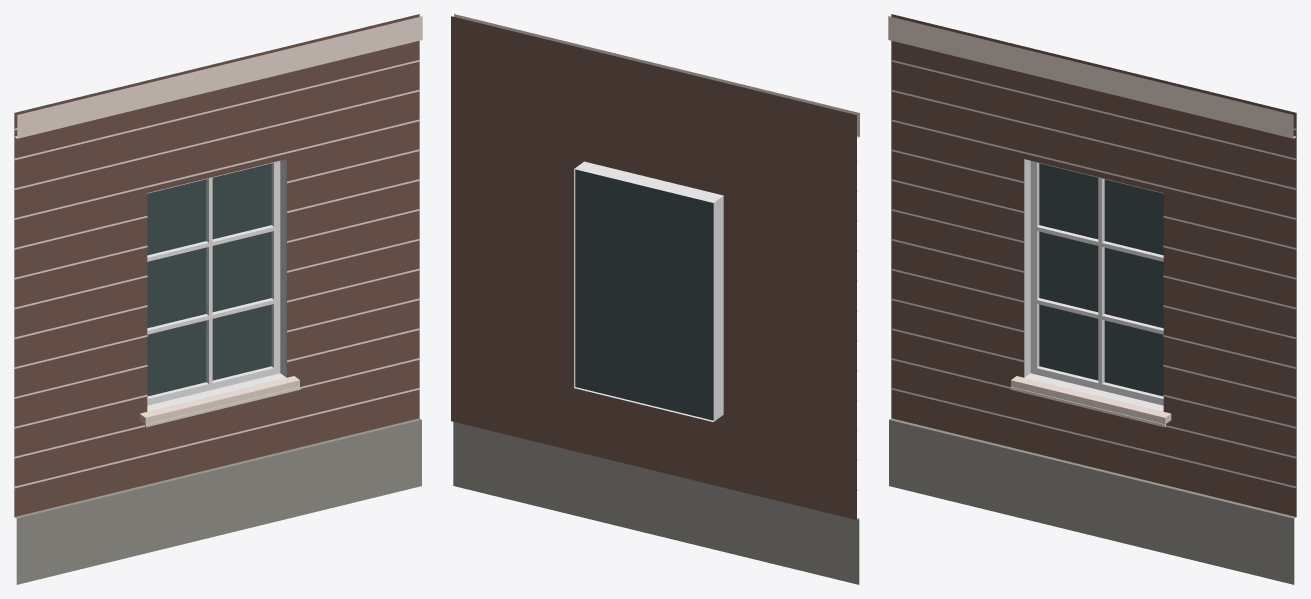
File: base-w1_close.fbx
3 views of the same model, side by side, from view 1: azimuth 30°, elevation 25°; view 2: azimuth 150°, elevation 25°; view 3: azimuth 330°, elevation 25° (orthographic).
Parts seen in each view (by area): view 1: a2000s3/600/base-w1_close; view 2: a2000s3/600/base-w1_close; view 3: a2000s3/600/base-w1_close.
Boxes of the visible parts, box(x1,y1,x2,y2) form: a2000s3/600/base-w1_close: box(14, 14, 422, 584); a2000s3/600/base-w1_close: box(451, 14, 859, 584); a2000s3/600/base-w1_close: box(888, 14, 1296, 584).
Size of the model in its own units: 3.2 by 3.55 by 0.225.
